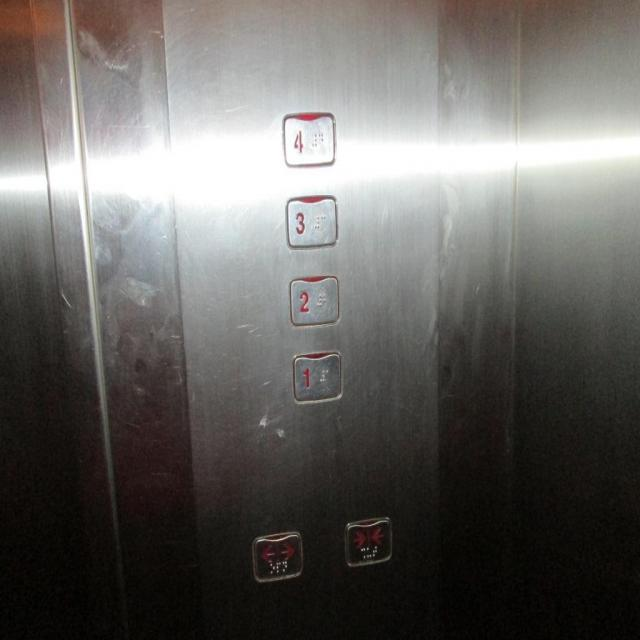1: (288, 347, 350, 405)
2: (286, 273, 342, 326)
3: (281, 192, 342, 255)
4: (279, 105, 338, 170)
close: (338, 514, 398, 568)
open: (249, 526, 308, 586)
